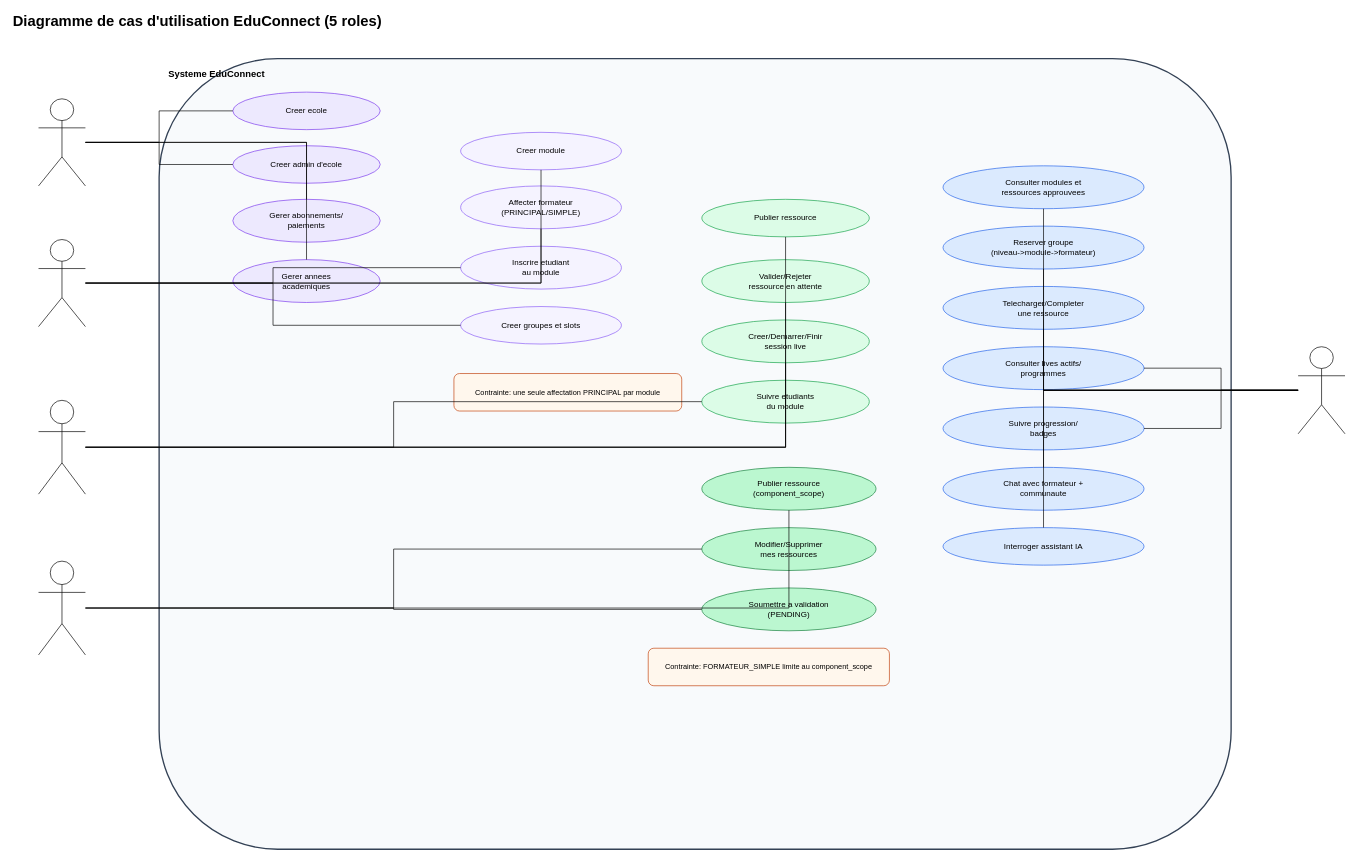
Some shapes in this 1357 by 861 pixel diagram are drawn without their labels. Each missing label, with the centre of its shape:
"ADMIN" belongs at (x=61, y=283).
"ETUDIANT" belongs at (x=1321, y=390).
"FORMATEUR (principal)" belongs at (x=61, y=447).
"FORMATEUR SIMPLE" belongs at (x=61, y=607).
"SUPER_ADMIN" belongs at (x=61, y=142).
